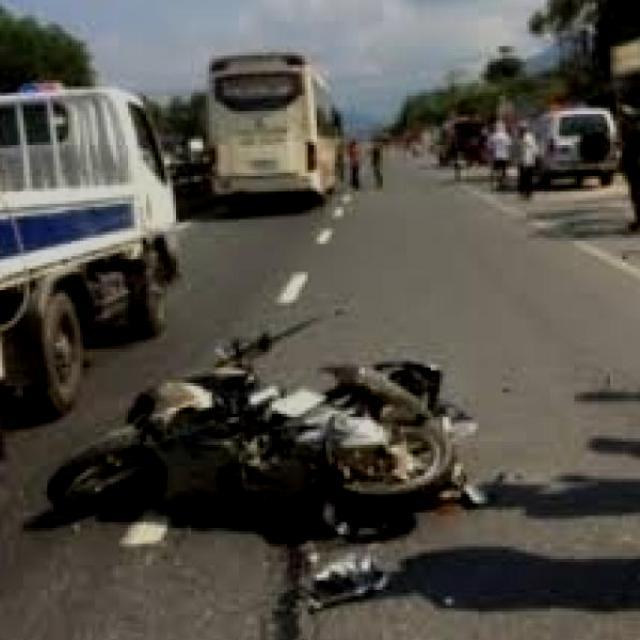accident: (45, 281, 510, 584)
